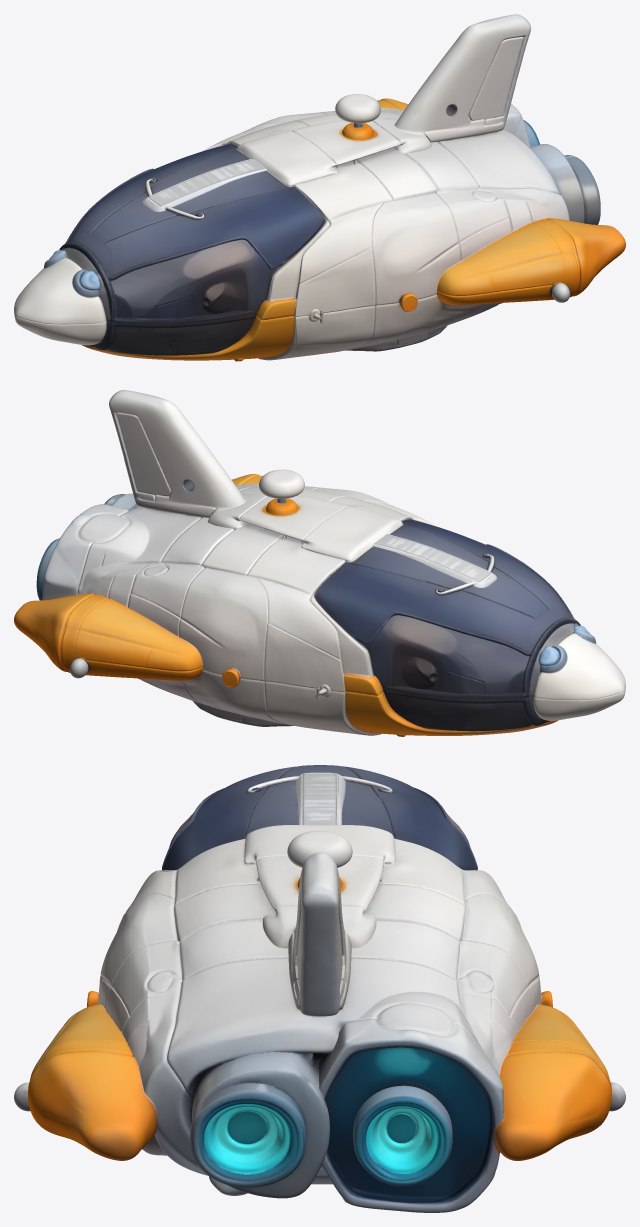
Rendered from tripo_convert_d90275df-f3e5-4a5a-989c-1306e44ae68f.fbx.
The picture shows the model from 3 angles, top to bottom: view 1: azimuth 30°, elevation 25°; view 2: azimuth 150°, elevation 25°; view 3: azimuth 270°, elevation 25°; orthographic projection. The views are drawn at different scales.
Visible parts, largest first — view 1: tripo_node_d90275df; view 2: tripo_node_d90275df; view 3: tripo_node_d90275df.
Boxes of the visible parts, x1=… form: tripo_node_d90275df: x1=14, y1=14, x2=625, y2=361; tripo_node_d90275df: x1=14, y1=390, x2=625, y2=736; tripo_node_d90275df: x1=14, y1=765, x2=625, y2=1212.
Bounding box in the file's own units: 0.9797 × 0.4717 × 0.694.
1 material, 1 textured.
